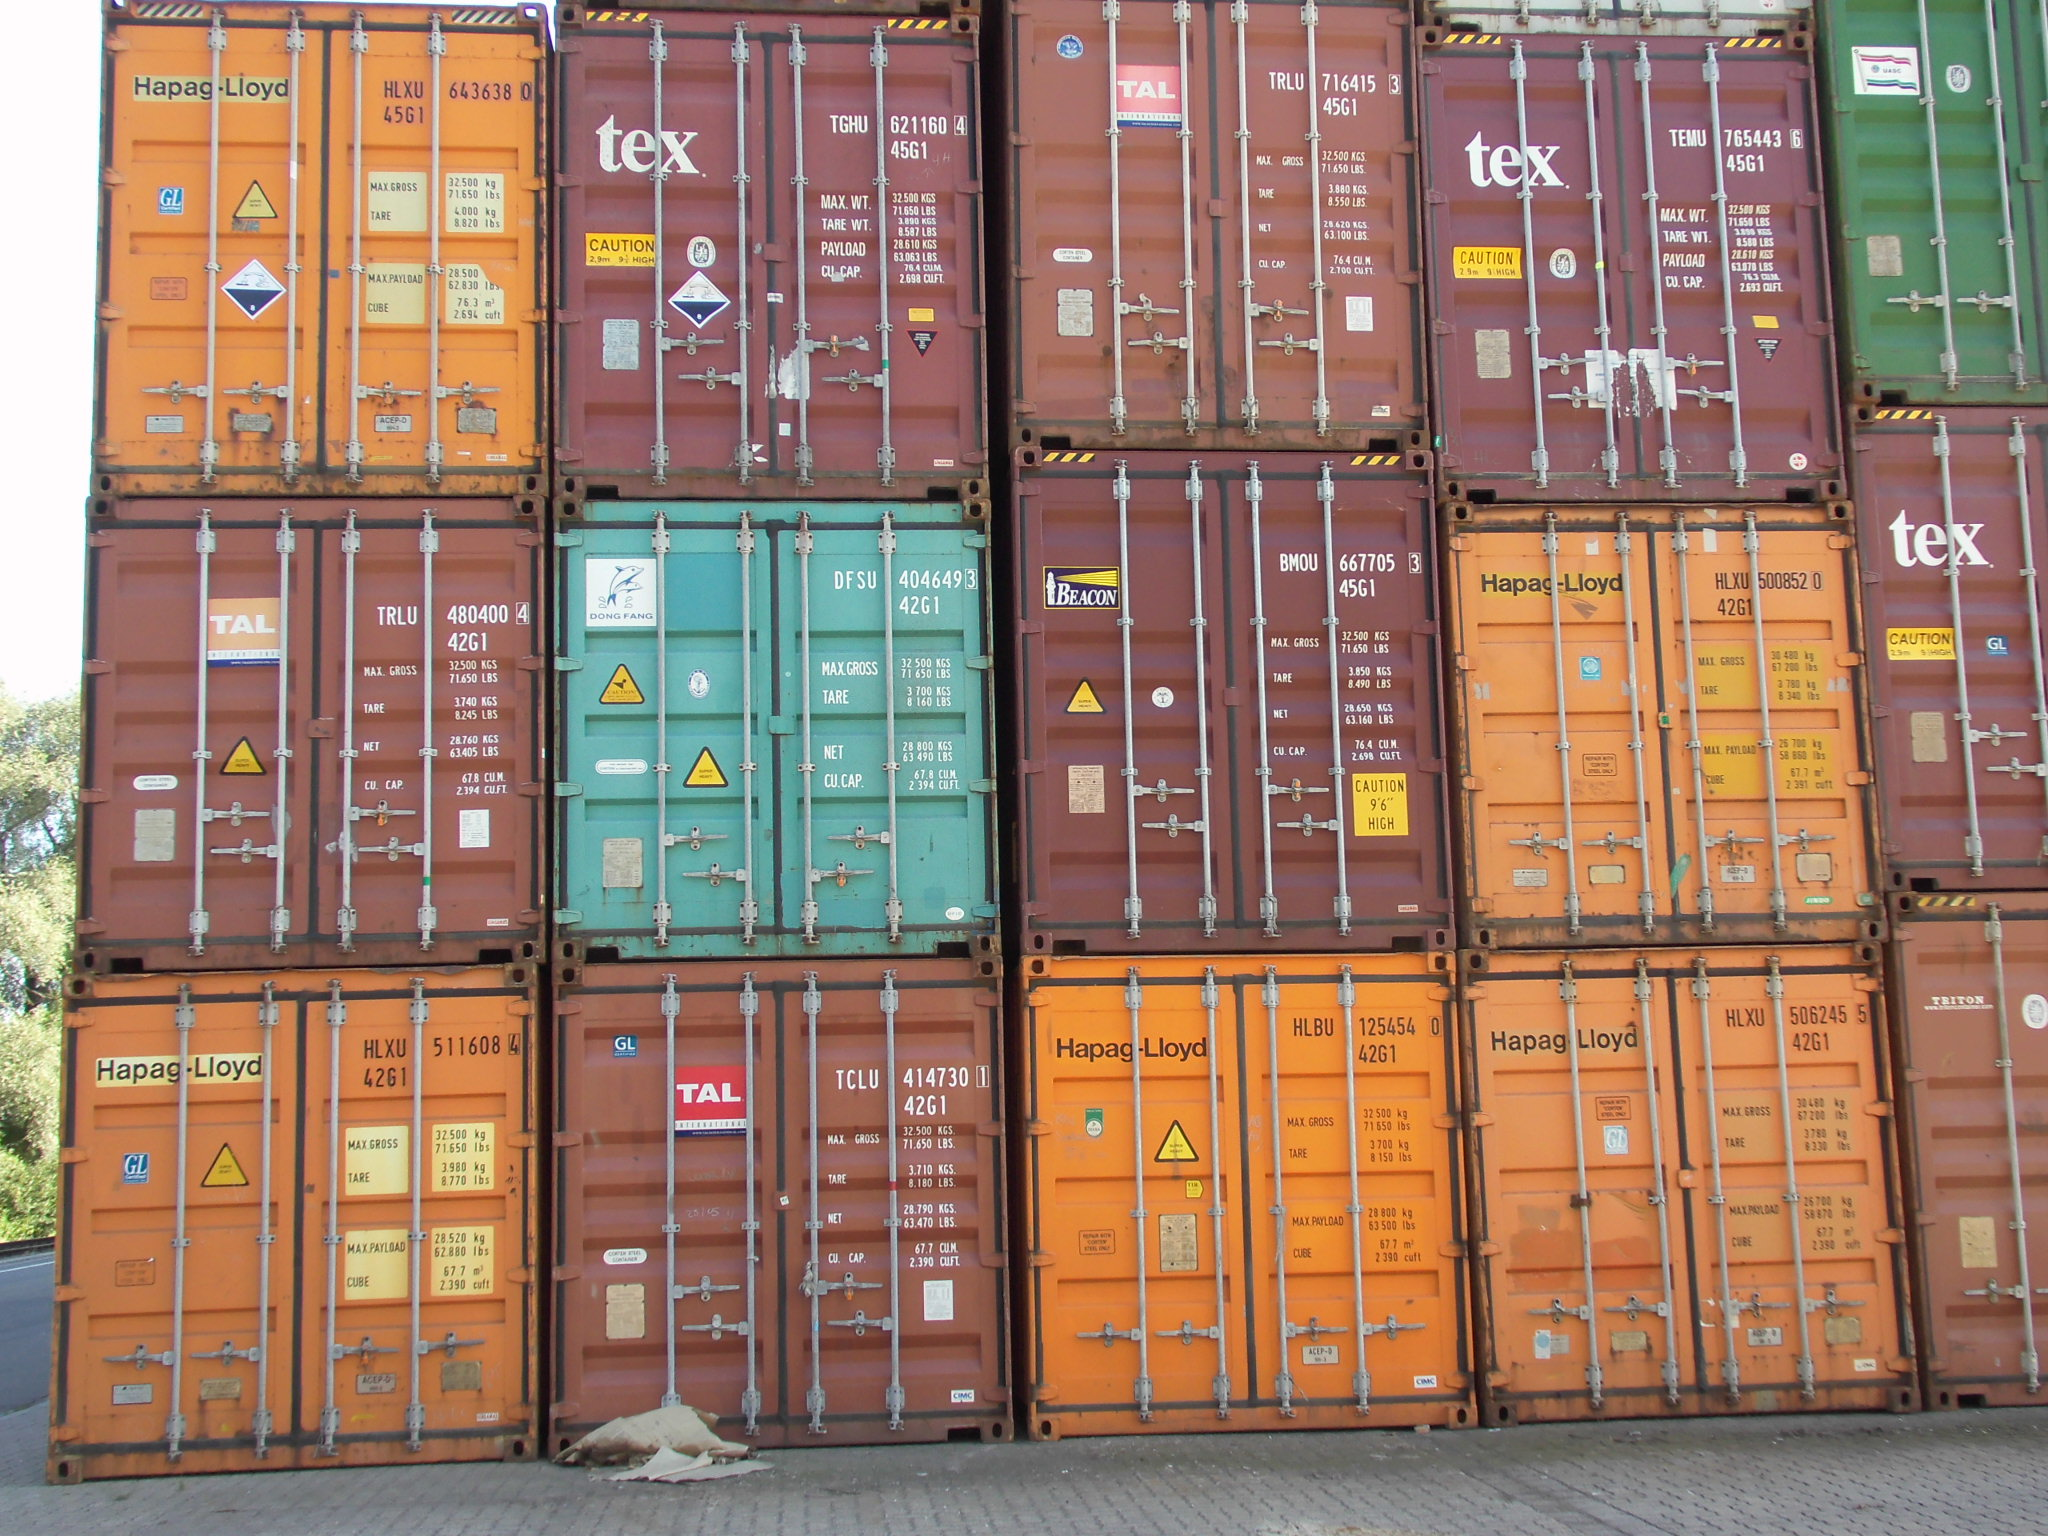container_door: (68, 971, 534, 1471), (1447, 947, 1916, 1434), (555, 970, 1024, 1455), (1001, 954, 1471, 1439), (552, 2, 1000, 486), (102, 2, 548, 486), (1001, 466, 1438, 945), (1417, 31, 1848, 492), (105, 500, 535, 960), (993, 2, 1424, 460), (563, 499, 992, 958), (1435, 508, 1872, 954)
